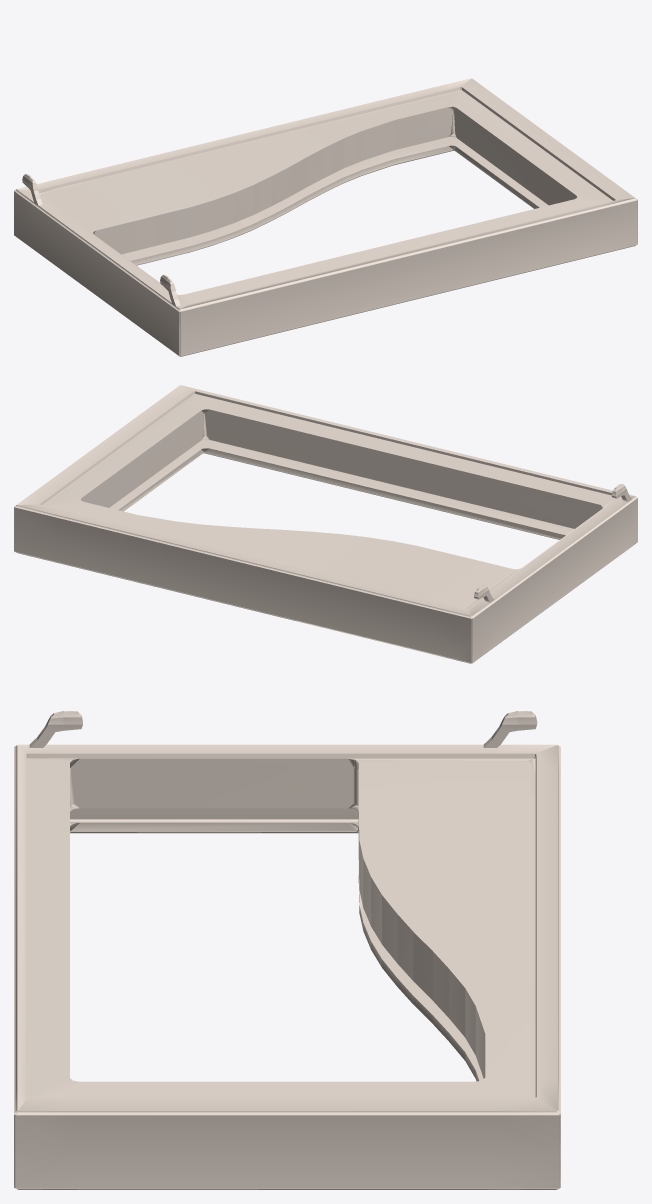
File: DoormeshMicrowaveDoorB8_1_GeomSubset_0.obj
3 renders of one model, top to bottom at view 1: azimuth 30°, elevation 25°; view 2: azimuth 150°, elevation 25°; view 3: azimuth 270°, elevation 25°, orthographic. The views are drawn at different scales.
Visible parts, largest first — view 1: DoormeshMicrowaveDoorB8_1_GeomSubset_0; view 2: DoormeshMicrowaveDoorB8_1_GeomSubset_0; view 3: DoormeshMicrowaveDoorB8_1_GeomSubset_0.
Boxes of the visible parts, x1,y1,x2,y2 form: DoormeshMicrowaveDoorB8_1_GeomSubset_0: (14, 78, 637, 356); DoormeshMicrowaveDoorB8_1_GeomSubset_0: (14, 385, 637, 663); DoormeshMicrowaveDoorB8_1_GeomSubset_0: (14, 711, 560, 1189).
Bounding box in the file's own units: 0.4845 × 0.1648 × 0.3462.
